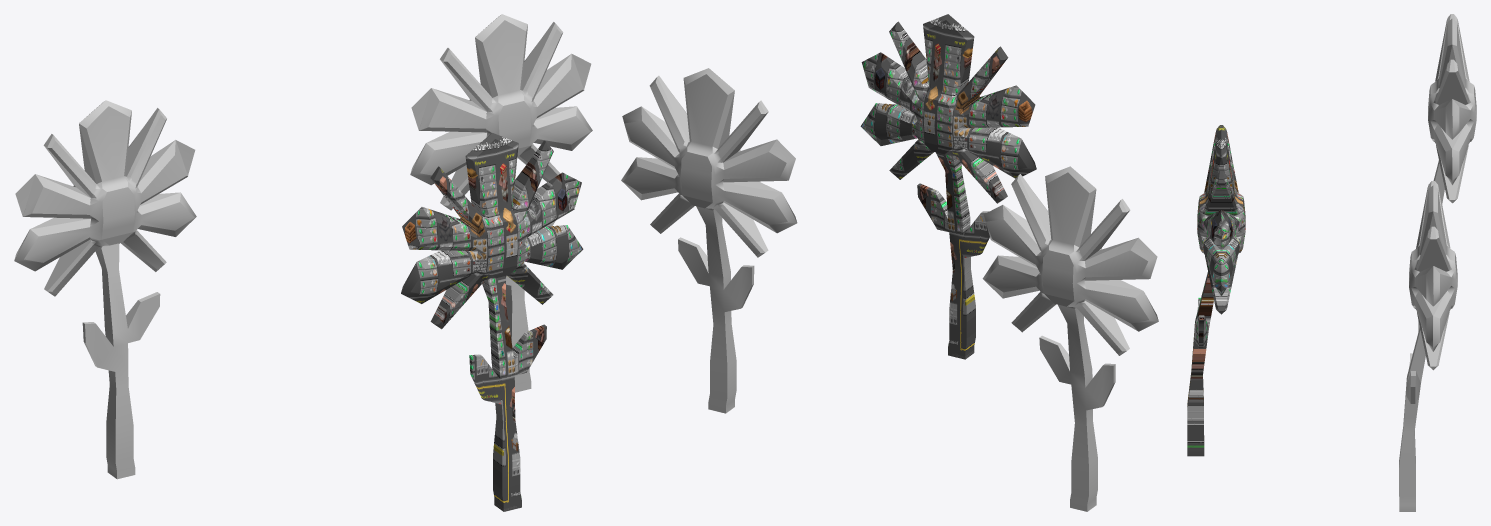
File: Flowie2.obj
3 renders of one model, left to right at view 1: azimuth 30°, elevation 25°; view 2: azimuth 150°, elevation 25°; view 3: azimuth 270°, elevation 25°, orthographic. The views are drawn at different scales.
Parts seen in each view (by area): view 1: flower3; view 2: flower3; view 3: flower3.
Part boxes in pixels (box(x1,y1,x2,y2)): flower3: box(14, 14, 592, 511); flower3: box(621, 14, 1158, 511); flower3: box(1187, 14, 1476, 511).
Bounding box in the file's own units: 10.19 × 6.23 × 5.07.
